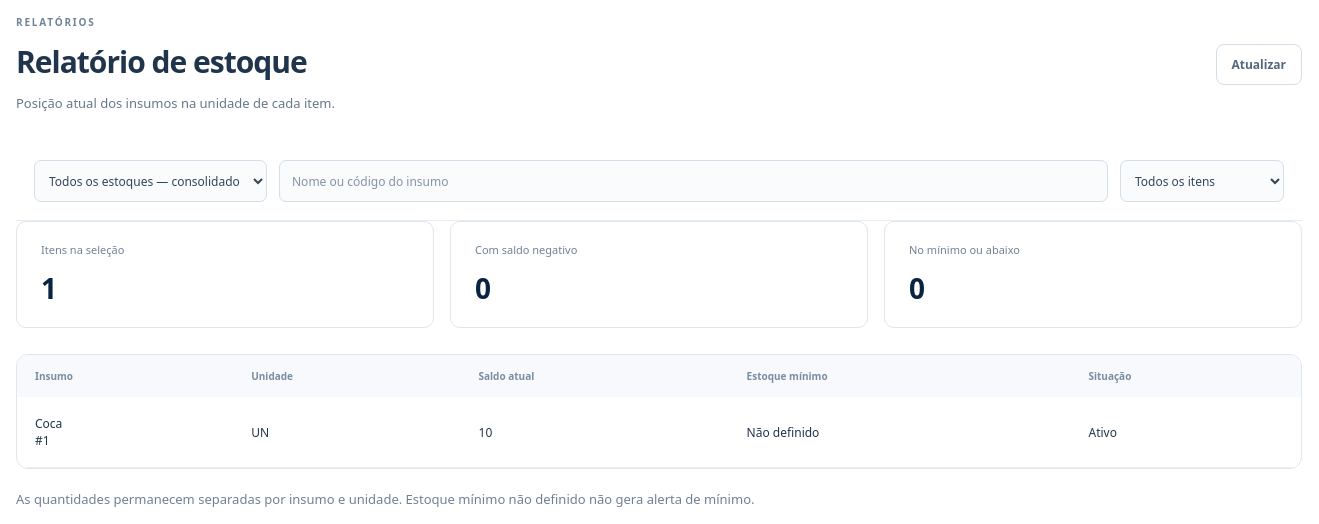
finds negative sector balances even when the consolidated balance is positive
expect the text "Coca" is shown: met, box [35, 415, 62, 432]
Select "Saldo negativo" in the dropdown named "Filtrar relatório de estoque" at (1202, 181), box [1120, 160, 1284, 202]
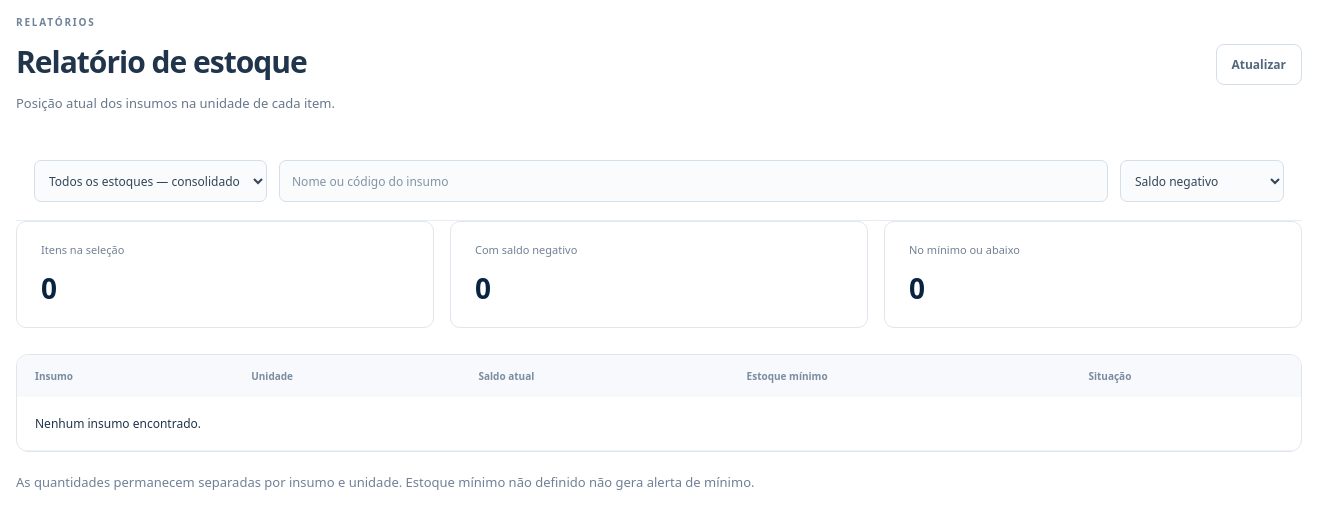
expect the text "Coca" is gone: met
Select "Cozinha" in the dropdown named "Estoque / setor" at (150, 181), box [34, 160, 267, 202]
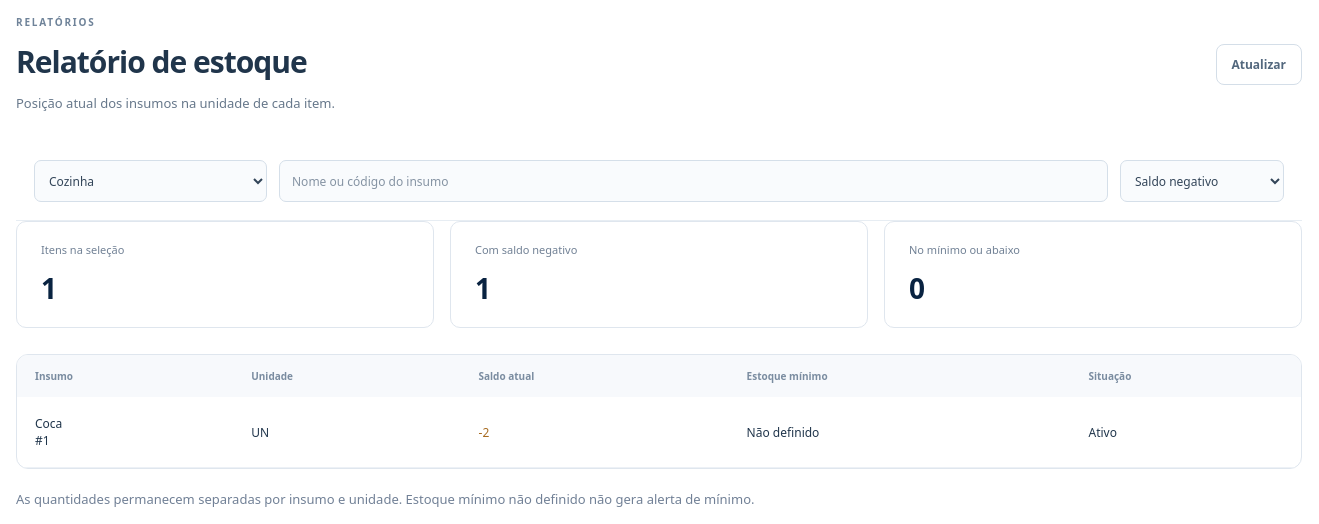
expect the text "Coca" is shown: met, box [35, 415, 62, 432]
expect the text "-2" is shown: met, box [460, 397, 729, 468]
